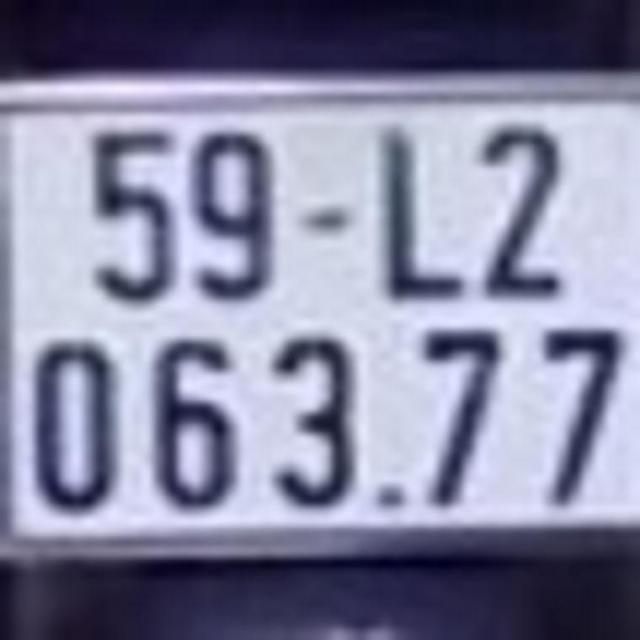0: (30, 321, 112, 514)
2: (478, 114, 561, 304)
3: (269, 330, 358, 513)
5: (89, 113, 179, 305)
6: (149, 331, 238, 512)
7: (413, 320, 502, 508), (540, 317, 622, 508)
9: (186, 124, 273, 311)
L: (376, 122, 464, 308)
